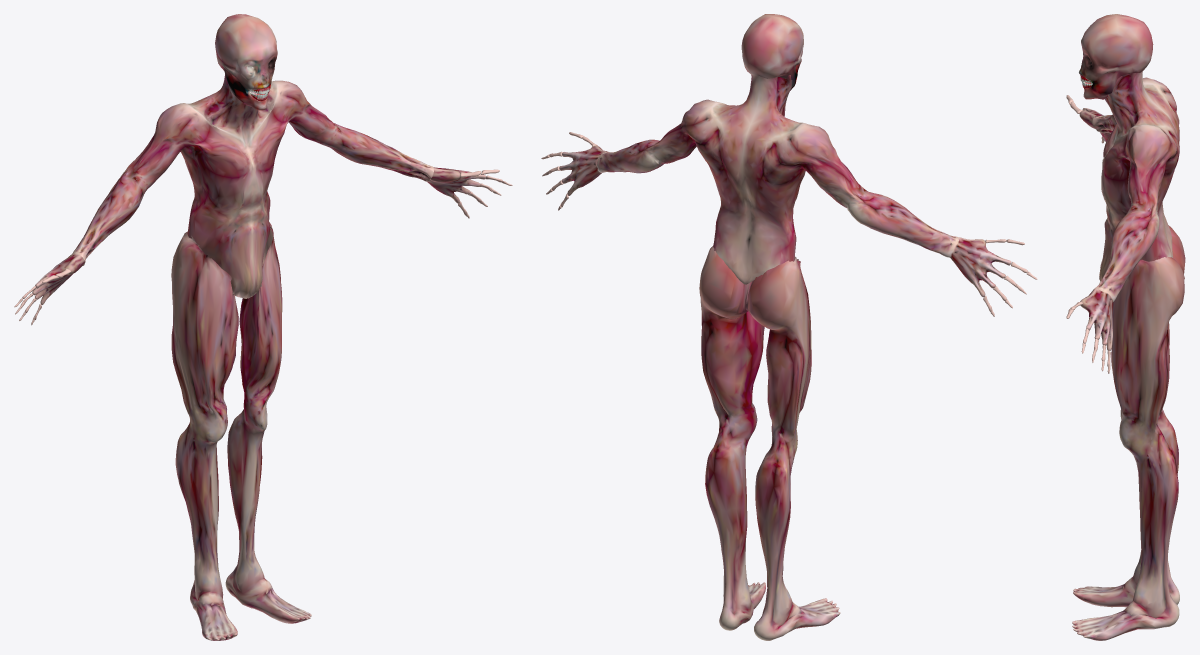
The model's file is Creature2.fbx.
3 renders of one model, left to right at view 1: azimuth 30°, elevation 25°; view 2: azimuth 150°, elevation 25°; view 3: azimuth 270°, elevation 25°, orthographic.
Visible parts, largest first — view 1: legs, Skinless_01_copy1, Skinless_01, hands; view 2: legs, Skinless_01_copy1, hands, Skinless_01; view 3: legs, Skinless_01_copy1, Skinless_01, hands.
Boxes of the visible parts, x1,y1,x2,y2 form: legs: (171, 222, 311, 640); Skinless_01_copy1: (72, 74, 433, 298); Skinless_01: (215, 14, 277, 110); hands: (14, 167, 512, 325); legs: (699, 246, 840, 640); Skinless_01_copy1: (597, 75, 958, 284); hands: (541, 132, 1037, 316); Skinless_01: (741, 14, 803, 90); legs: (1072, 225, 1185, 640); Skinless_01_copy1: (1092, 72, 1179, 302); Skinless_01: (1079, 14, 1153, 99); hands: (1066, 95, 1112, 373).
Bounding box in the file's own units: 1.63 × 1.9 × 0.3381.
